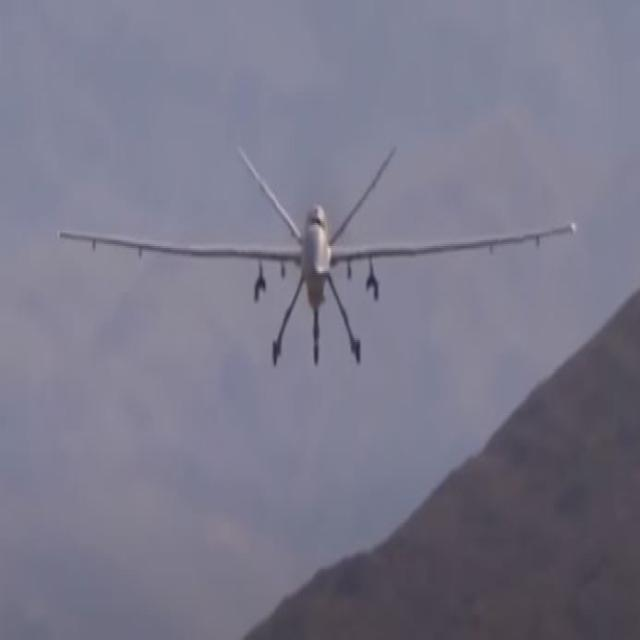iha: (61, 145, 574, 373)
